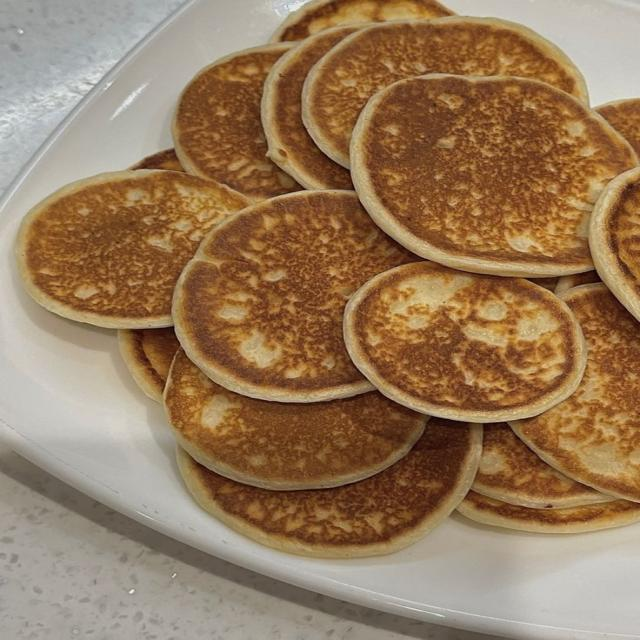pancake: (352, 75, 637, 277), (174, 191, 416, 401), (303, 17, 587, 166), (179, 419, 481, 557), (344, 262, 586, 422), (16, 170, 248, 328), (165, 350, 427, 489), (510, 284, 639, 501), (173, 44, 300, 200), (262, 26, 361, 189), (473, 423, 614, 508), (458, 491, 639, 533), (589, 168, 639, 320), (271, 0, 453, 41), (118, 327, 179, 402), (118, 328, 179, 402), (595, 98, 639, 155), (130, 149, 184, 172), (553, 271, 600, 294), (527, 277, 559, 291)
